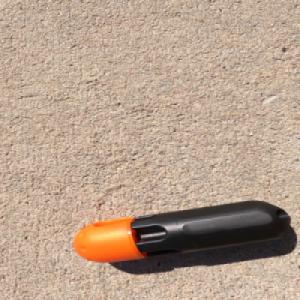PlasticPart: (74, 199, 290, 263)
